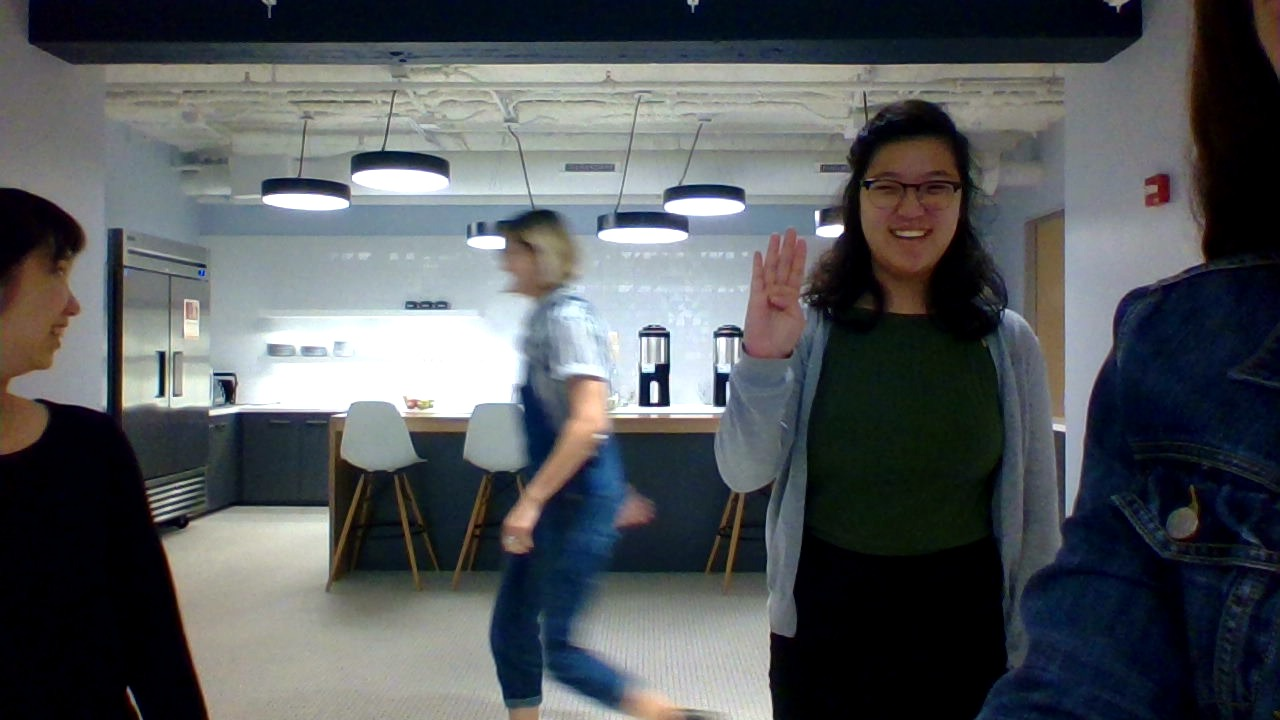b: (725, 224, 830, 373)
